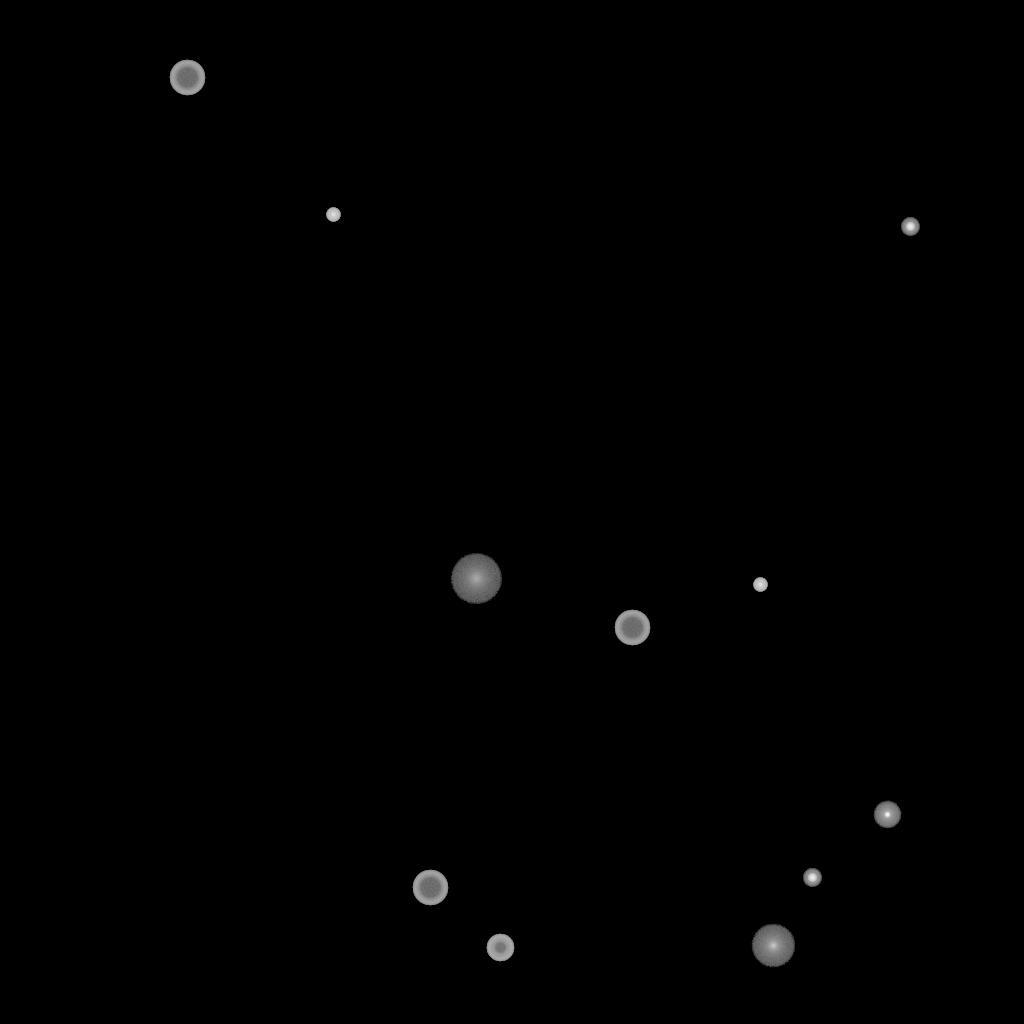depth:-10: (873, 801, 901, 829)
depth:-20: (803, 869, 821, 887), (901, 218, 919, 236)
depth:-30: (753, 578, 767, 592), (326, 208, 340, 222)
depth:-50: (486, 934, 514, 962)
depth:-60: (412, 870, 448, 906), (614, 610, 650, 646), (169, 60, 205, 96)
depth:10: (751, 924, 795, 968)
depth:20: (450, 554, 502, 604)
